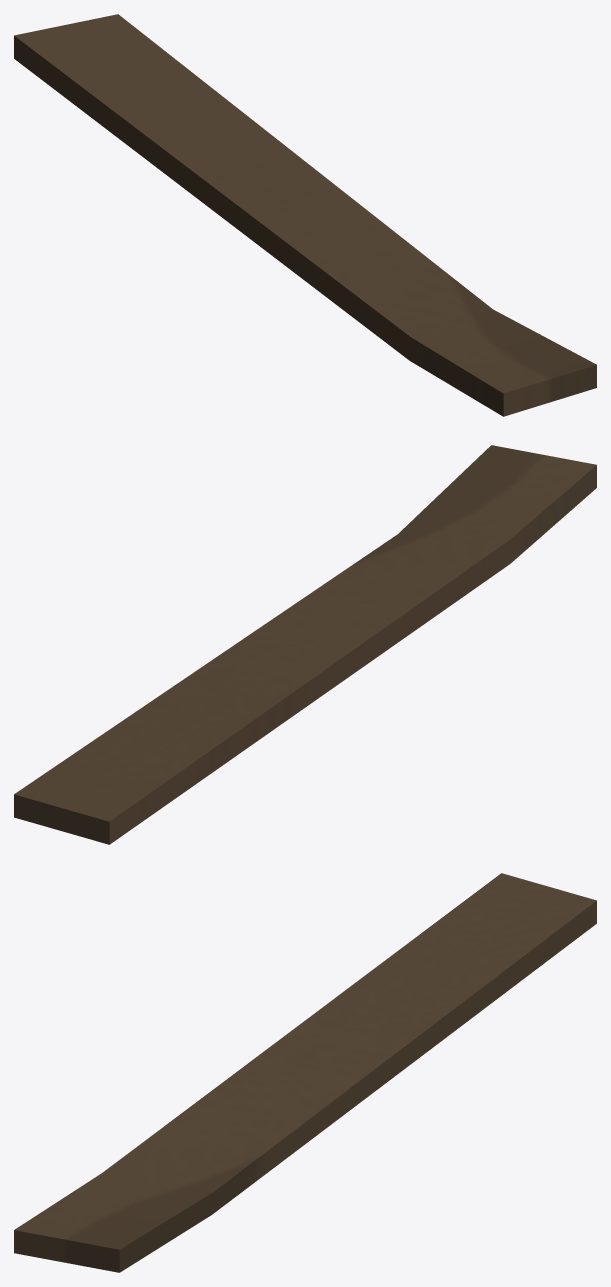
The model's file is SM_Bld_Dock_Plank_06.fbx.
3 views of the same model, one above another, from view 1: azimuth 30°, elevation 25°; view 2: azimuth 150°, elevation 25°; view 3: azimuth 330°, elevation 25° (orthographic).
Parts seen in each view (by area): view 1: SM_Bld_Dock_Plank_06; view 2: SM_Bld_Dock_Plank_06; view 3: SM_Bld_Dock_Plank_06.
Boxes of the visible parts, x1,y1,x2,y2 form: SM_Bld_Dock_Plank_06: (14,14,596,416); SM_Bld_Dock_Plank_06: (14,445,596,844); SM_Bld_Dock_Plank_06: (14,873,596,1272).
Bounding box in the file's own units: 33.25 × 12.02 × 273.
